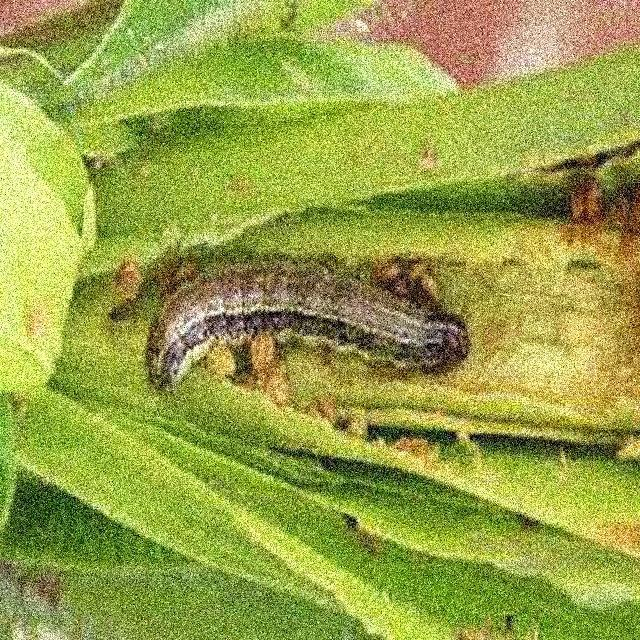Plaga: (144, 253, 476, 399)
